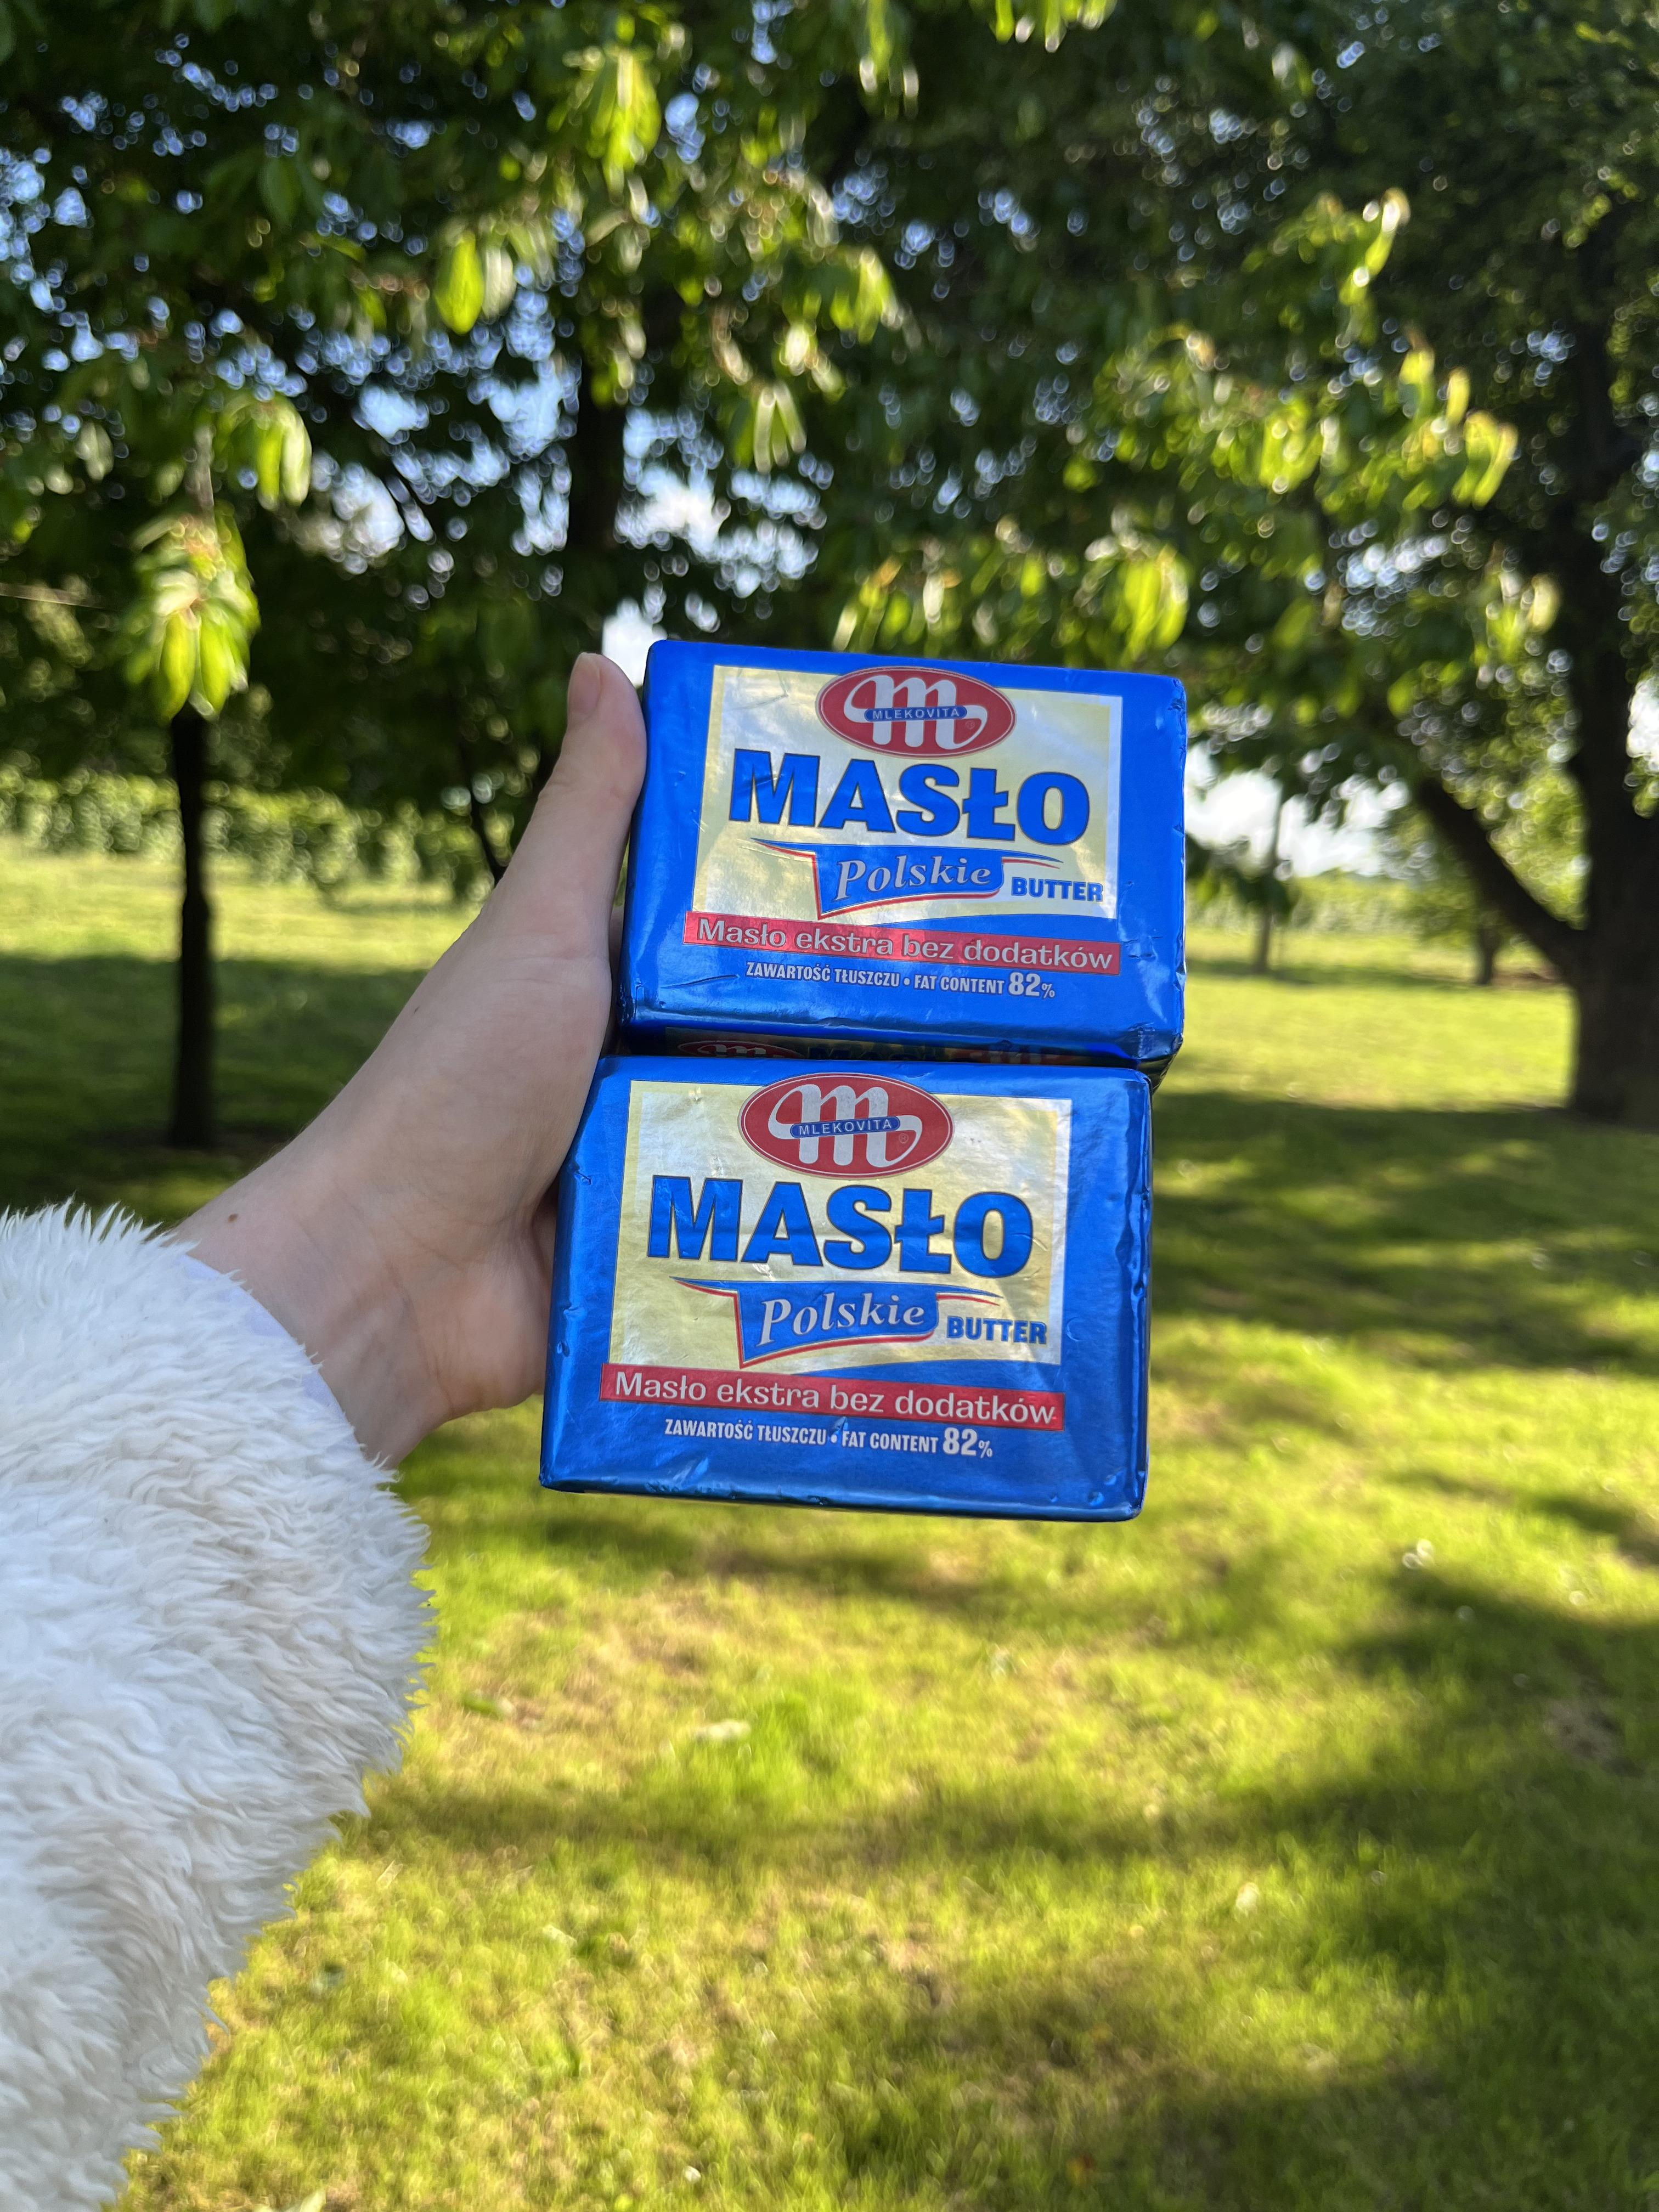Butter: (580, 1069, 1173, 1515), (634, 632, 1190, 1047)
